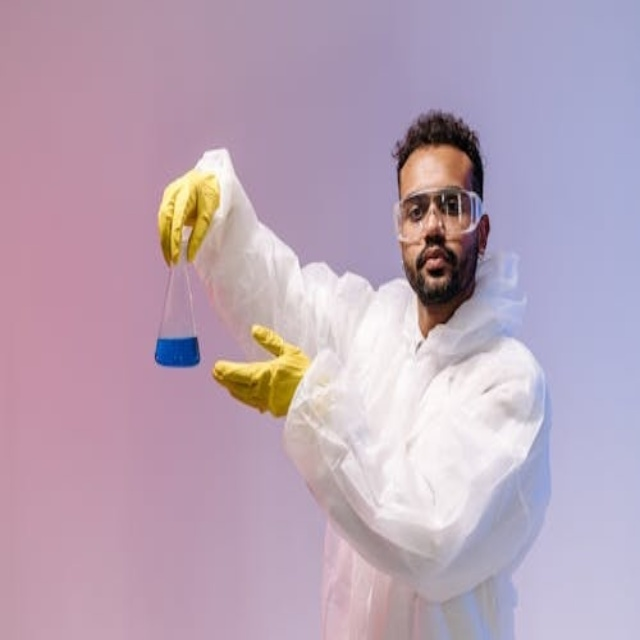Gafas: (391, 187, 483, 241)
Guantes: (213, 323, 311, 419), (158, 167, 220, 267)
Mascara: (154, 249, 201, 367)
Sin_mascara: (404, 238, 463, 289)
